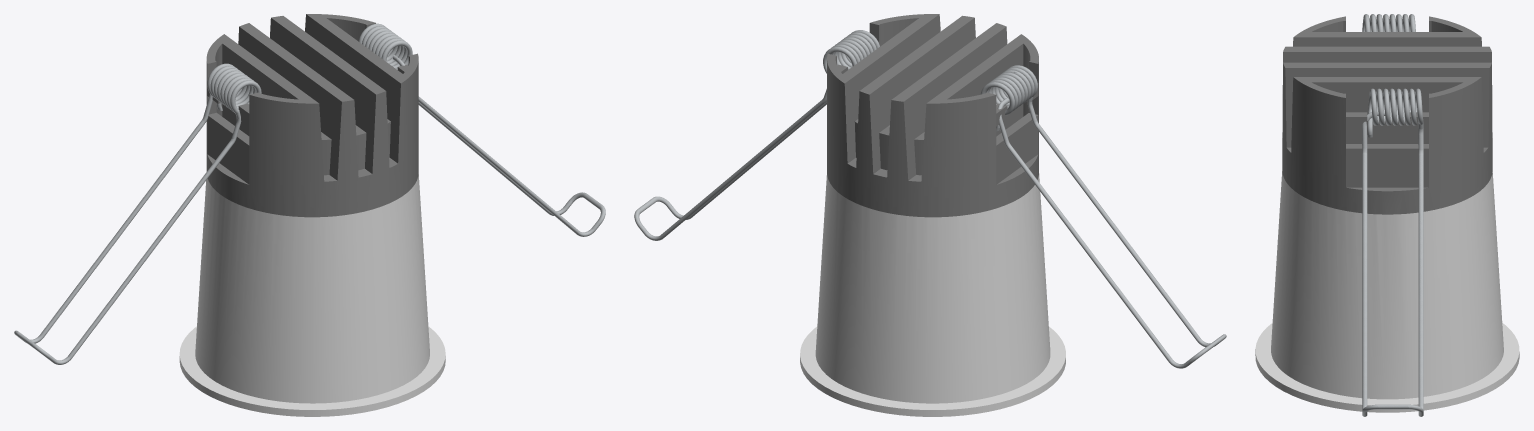
The model's file is ComfortEmbutido.glb.
3 views of the same model, side by side, from view 1: azimuth 30°, elevation 25°; view 2: azimuth 150°, elevation 25°; view 3: azimuth 270°, elevation 25° (orthographic).
Visible parts, largest first — view 1: 3DGeom-3, 3DGeom-1, 3DGeom-5, 3DGeom-4; view 2: 3DGeom-3, 3DGeom-1, 3DGeom-5, 3DGeom-4; view 3: 3DGeom-3, 3DGeom-1, 3DGeom-4, 3DGeom-5.
Boxes of the visible parts, bbox=[...] form: 3DGeom-3: bbox=[179, 174, 445, 416]; 3DGeom-1: bbox=[206, 14, 418, 217]; 3DGeom-5: bbox=[14, 63, 261, 364]; 3DGeom-4: bbox=[358, 23, 605, 236]; 3DGeom-3: bbox=[800, 173, 1065, 416]; 3DGeom-1: bbox=[827, 14, 1038, 217]; 3DGeom-5: bbox=[980, 65, 1226, 368]; 3DGeom-4: bbox=[634, 30, 879, 240]; 3DGeom-3: bbox=[1255, 171, 1519, 412]; 3DGeom-1: bbox=[1282, 16, 1492, 214]; 3DGeom-4: bbox=[1362, 88, 1423, 416]; 3DGeom-5: bbox=[1362, 14, 1415, 31].
Size of the model in its own units: 0.1513 by 0.0775 by 0.061.
4 materials, 1 textured.
